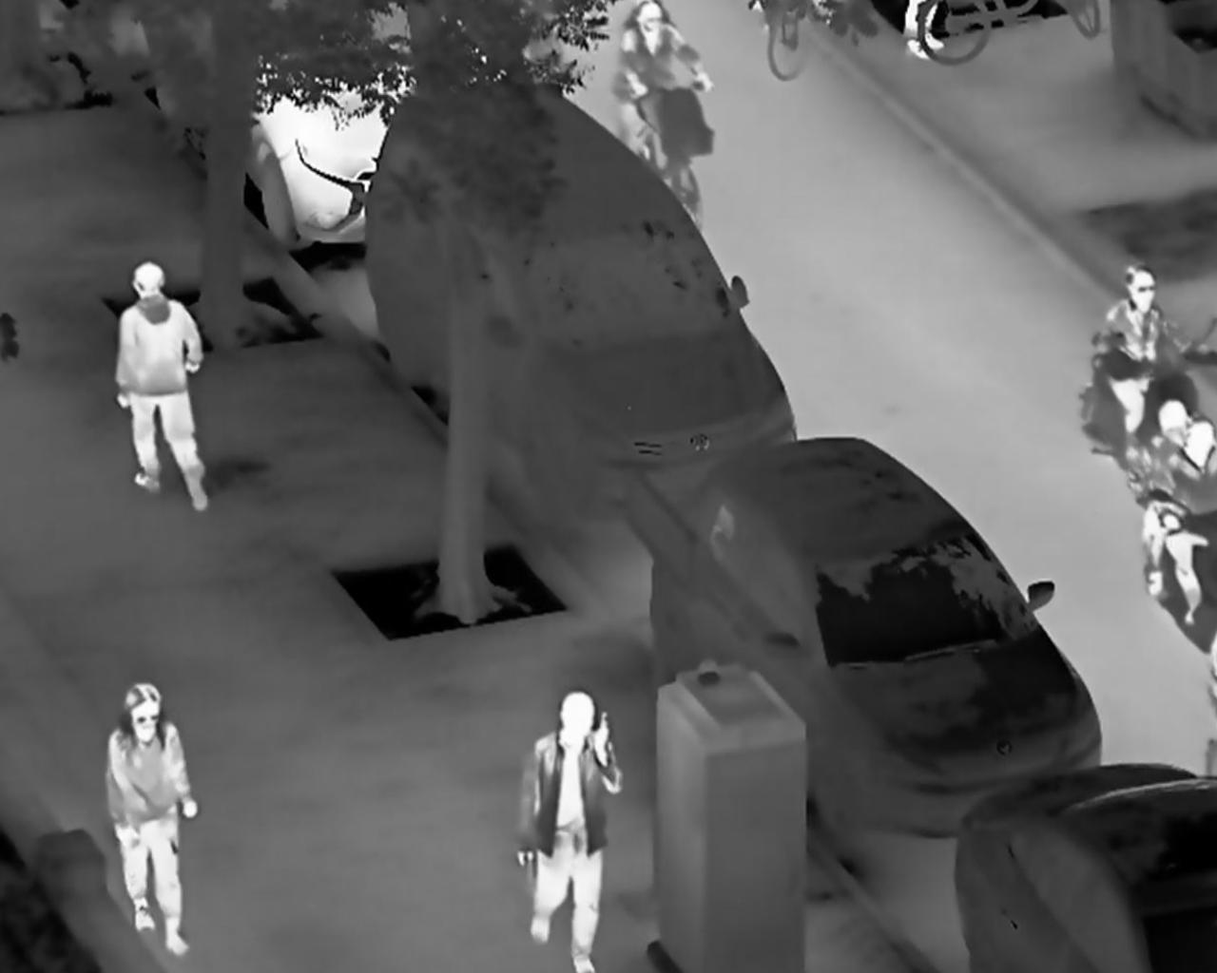person: (514, 692, 624, 973), (101, 678, 203, 959), (109, 258, 214, 515), (1095, 260, 1217, 444), (1149, 415, 1217, 621)
